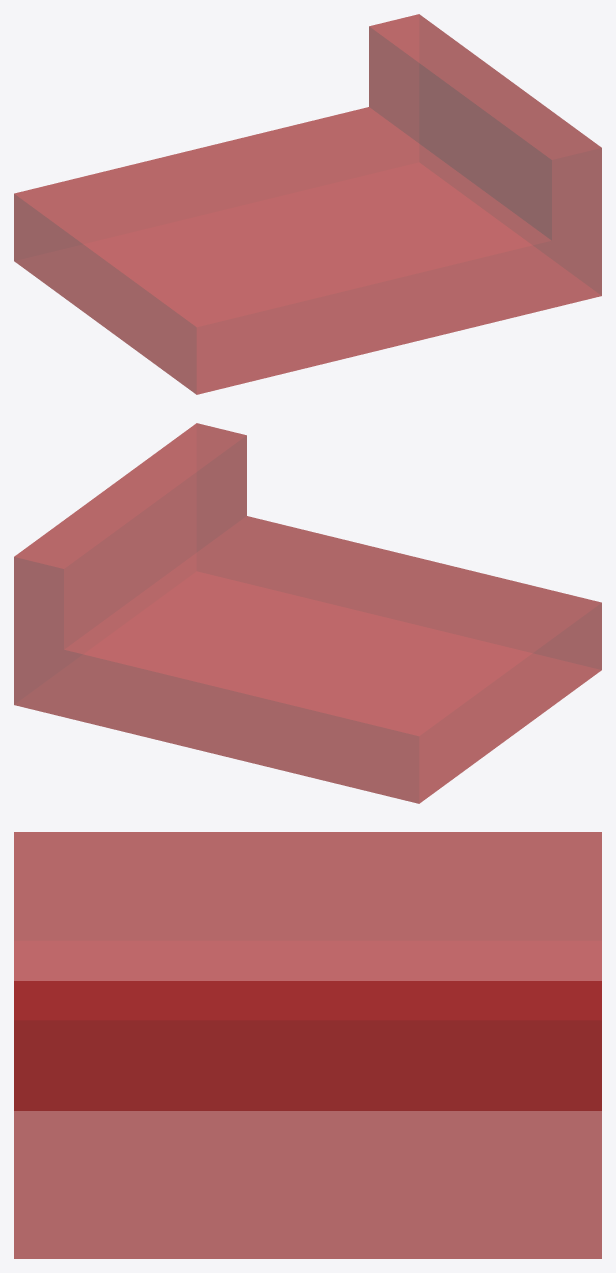
The model's file is SM_Env_Motorway_Edge_01_Collision.fbx.
3 views of the same model, one above another, from view 1: azimuth 30°, elevation 25°; view 2: azimuth 150°, elevation 25°; view 3: azimuth 270°, elevation 25° (orthographic). The views are drawn at different scales.
Parts seen in each view (by area): view 1: SM_Env_Motorway_Edge_01_Collision; view 2: SM_Env_Motorway_Edge_01_Collision; view 3: SM_Env_Motorway_Edge_01_Collision.
Part boxes in pixels (bbox=[...]): SM_Env_Motorway_Edge_01_Collision: bbox=[14, 14, 601, 394]; SM_Env_Motorway_Edge_01_Collision: bbox=[14, 423, 601, 803]; SM_Env_Motorway_Edge_01_Collision: bbox=[14, 832, 601, 1258].
Bounding box in the file's own units: 640 × 224 × 500.
